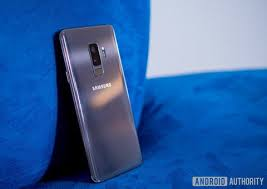samsung: (52, 20, 143, 186)
